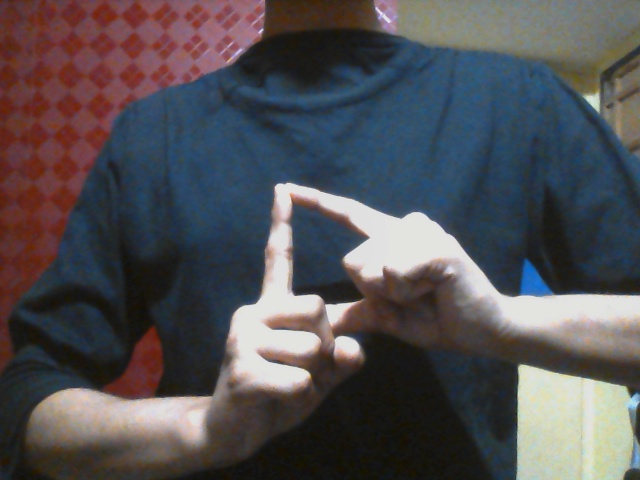D: (208, 181, 496, 464)
